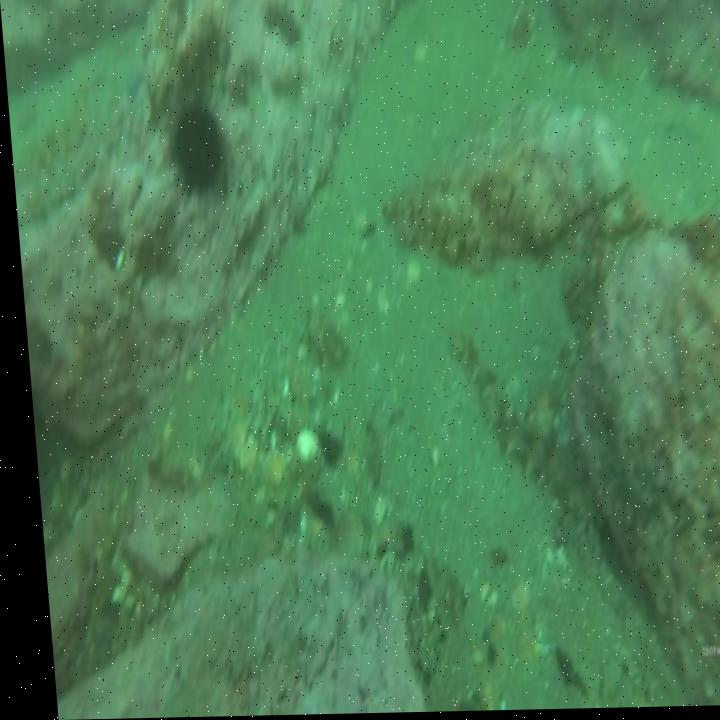echinus: (165, 101, 229, 196)
holothurian: (446, 330, 570, 508)
